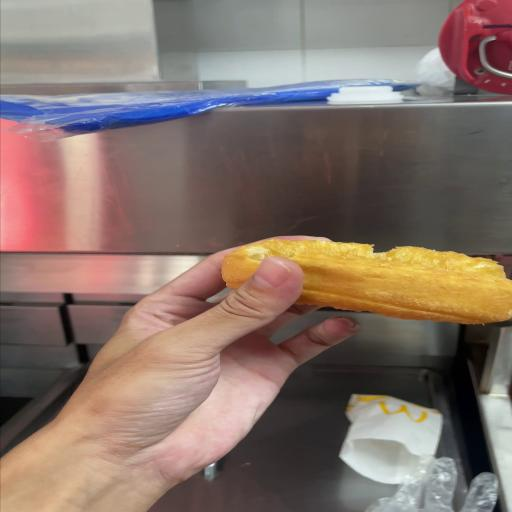brand_golden_defect: (222, 239, 512, 324)
